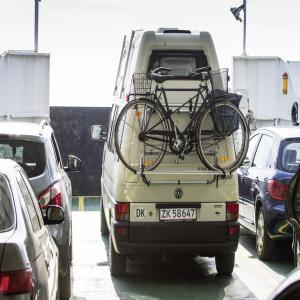Vehicle-registration-plate: (161, 209, 198, 222)
